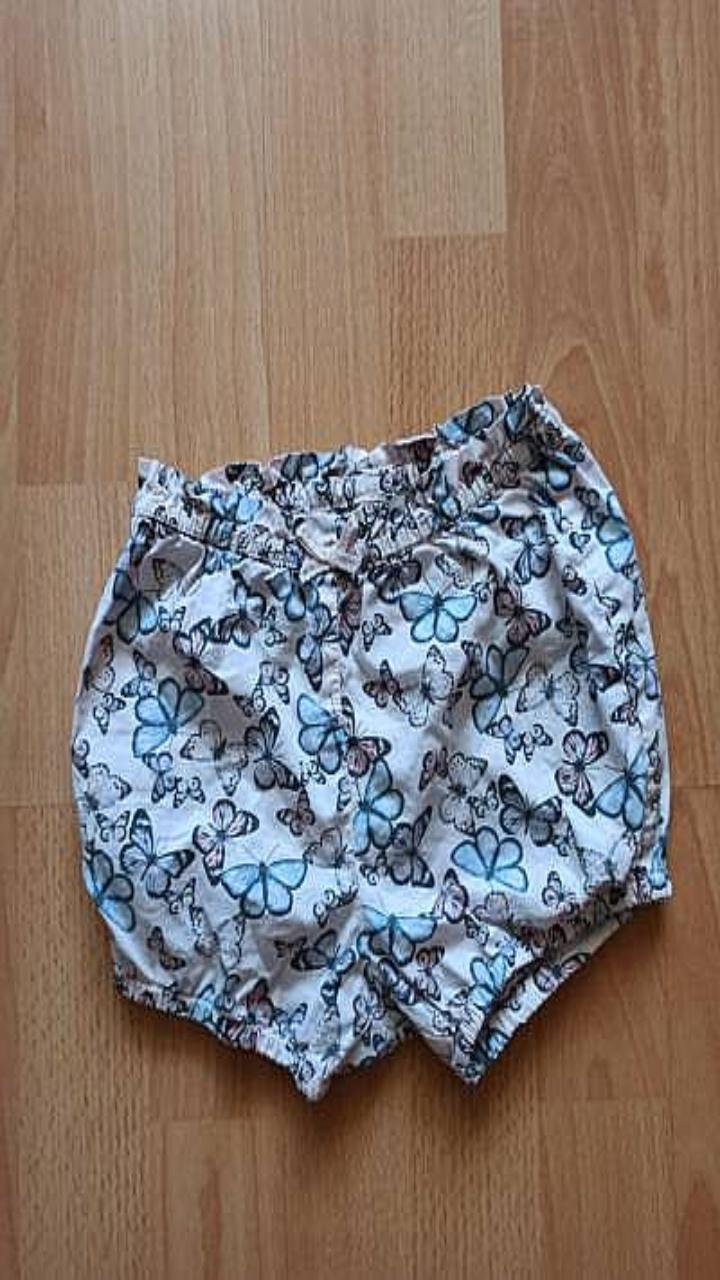Shorts: (72, 384, 671, 1098)
